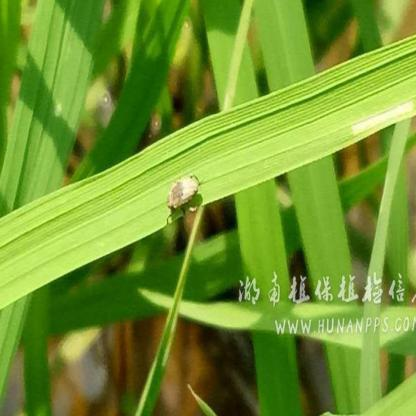rice-bug: (168, 168, 203, 218)
